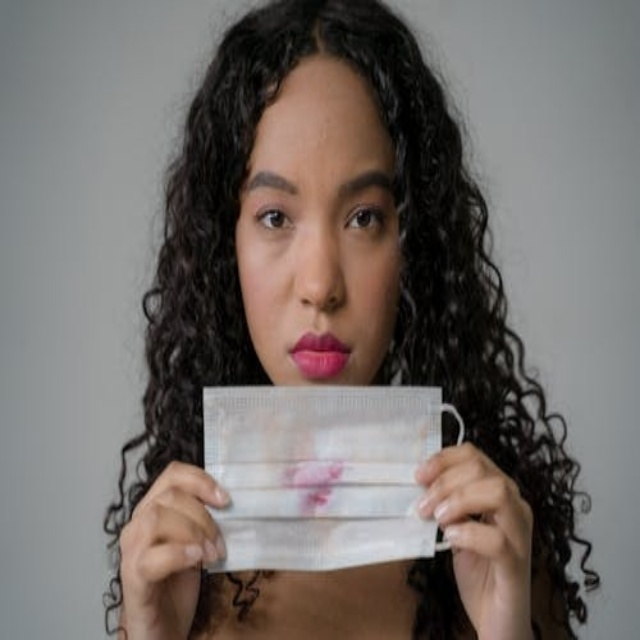Sin_gafas: (239, 158, 396, 256)
Sin_guantes: (407, 427, 539, 634), (111, 448, 228, 638)
Sin_mascara: (268, 313, 371, 384)
